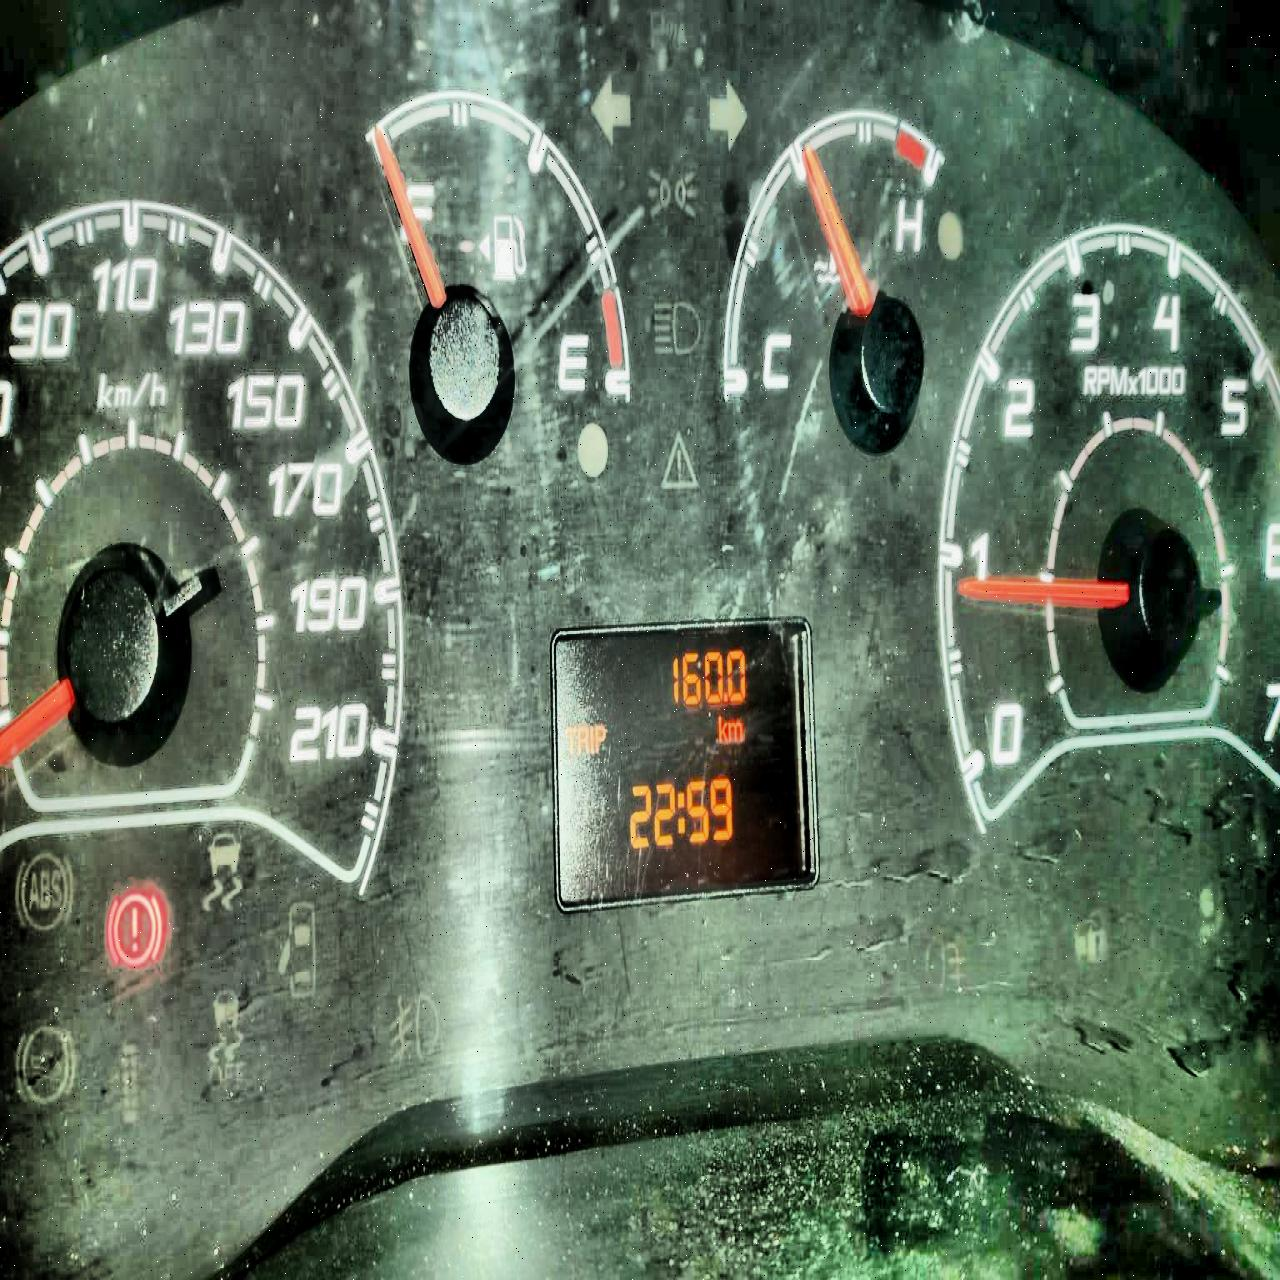-: (722, 690, 728, 703)
0: (726, 649, 745, 701), (703, 651, 722, 702)
1: (672, 655, 679, 704)
2: (653, 783, 675, 844), (629, 784, 651, 847)
5: (686, 779, 708, 842)
6: (682, 652, 700, 704)
9: (710, 776, 733, 839)
X: (676, 791, 686, 832), (577, 724, 588, 753), (727, 720, 742, 741), (564, 727, 576, 753), (717, 714, 727, 744), (594, 724, 604, 753), (588, 724, 594, 754)
odometer: (549, 613, 821, 917)
